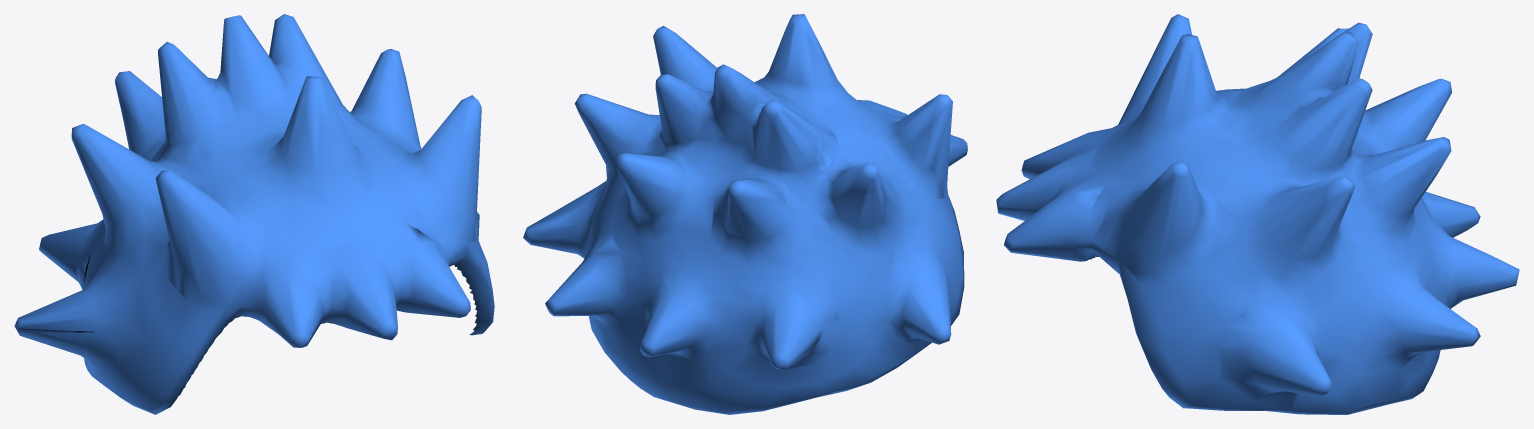
File: hair_spiky.glb
3 views of the same model, side by side, from view 1: azimuth 30°, elevation 25°; view 2: azimuth 150°, elevation 25°; view 3: azimuth 270°, elevation 25° (orthographic). The views are drawn at different scales.
Visible parts, largest first — view 1: hair_spiky; view 2: hair_spiky; view 3: hair_spiky.
Part boxes in pixels (bbox=[...]): hair_spiky: bbox=[14, 14, 494, 414]; hair_spiky: bbox=[523, 14, 967, 414]; hair_spiky: bbox=[996, 14, 1519, 414].
Bounding box in the file's own units: 0.7596 × 0.5391 × 0.7517.
1 material, 1 textured.
